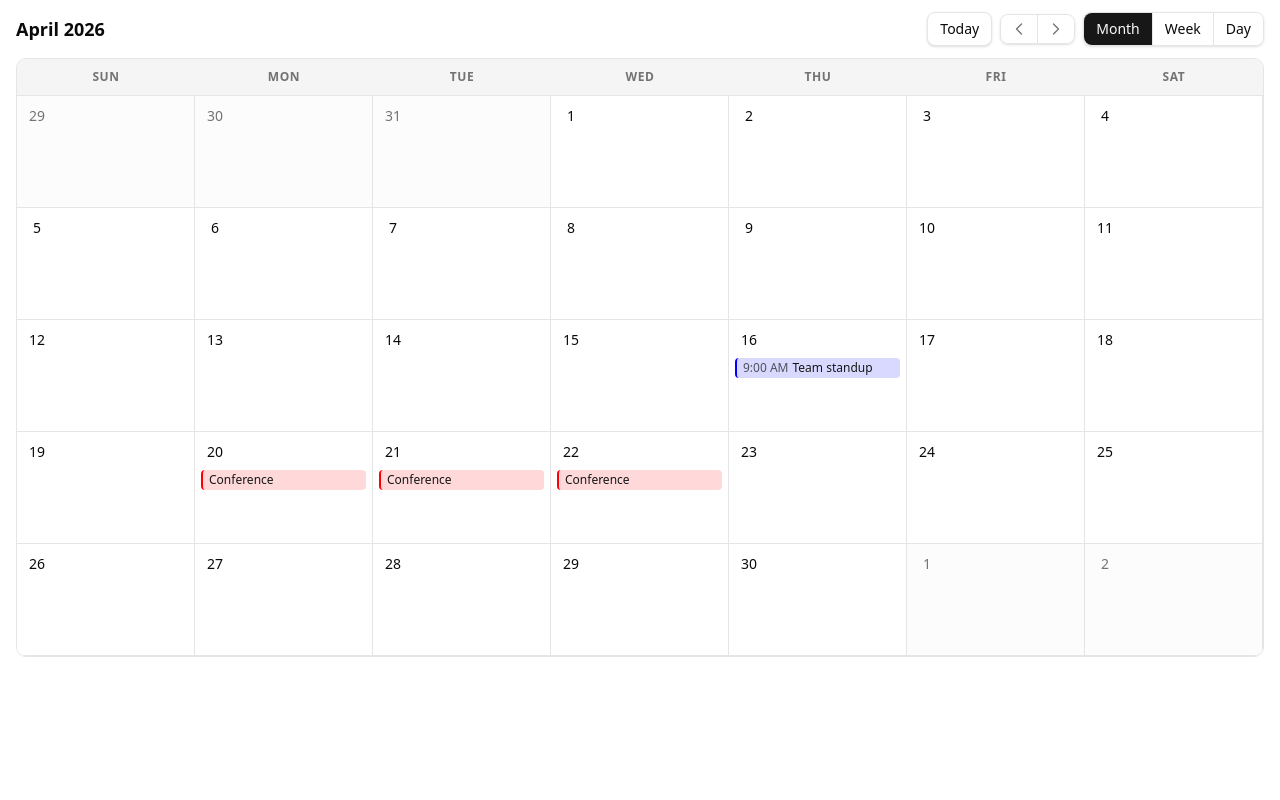
Calendar component › switches to day view
Click the tab "Day" at (1238, 29), box [1213,13,1263,45]
(page scrolled)
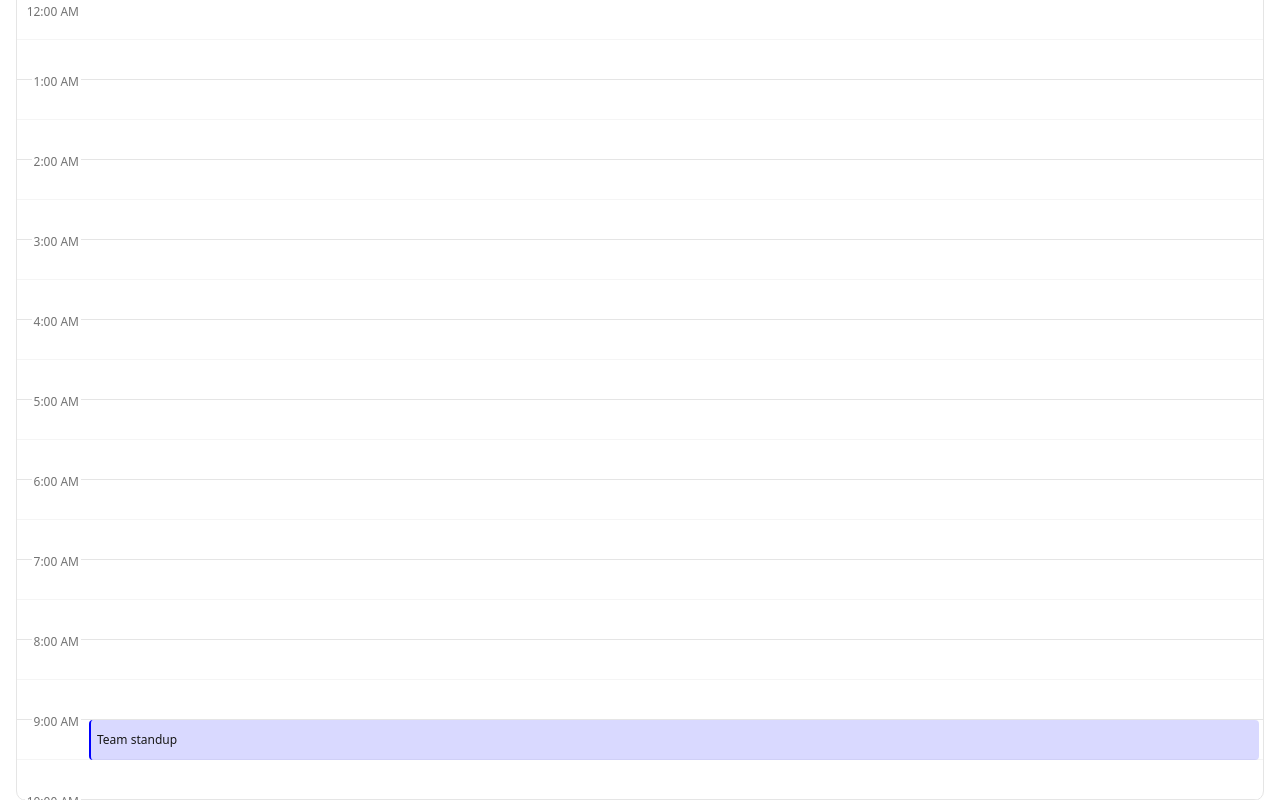
Check: the element named "Time grid" is shown
